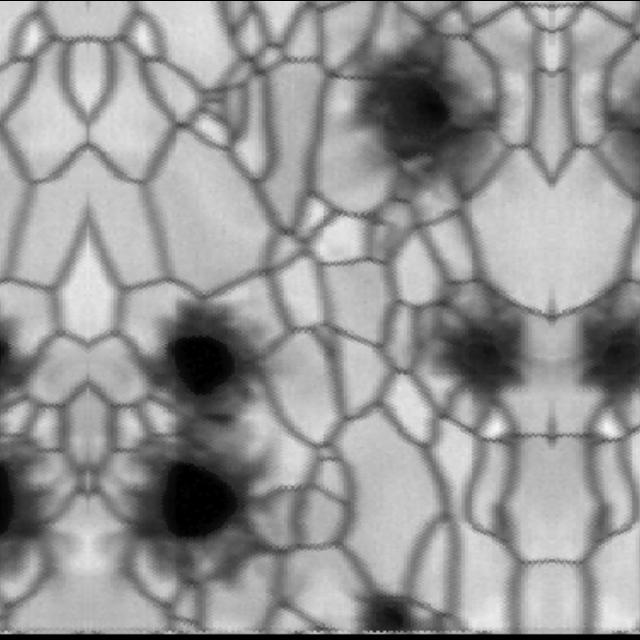good_void: (99, 285, 302, 592), (330, 8, 519, 219), (0, 290, 79, 577), (424, 287, 545, 419), (561, 287, 640, 418), (587, 26, 640, 206), (358, 589, 495, 632)
